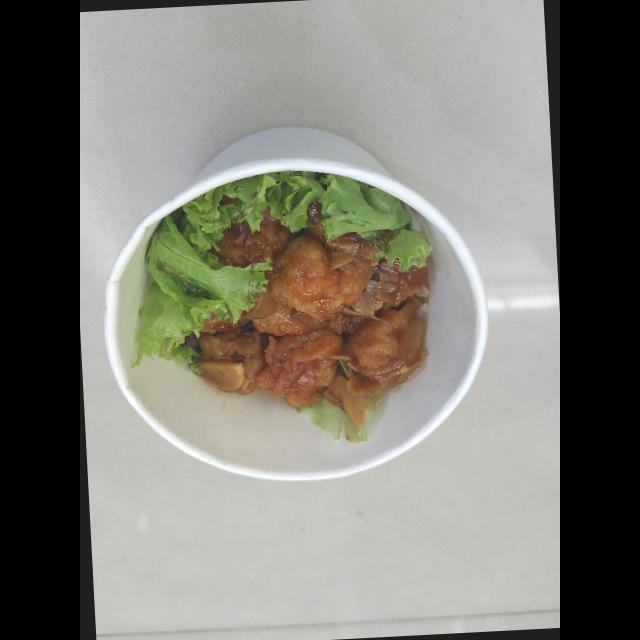rice-bowl: (86, 99, 510, 503)
